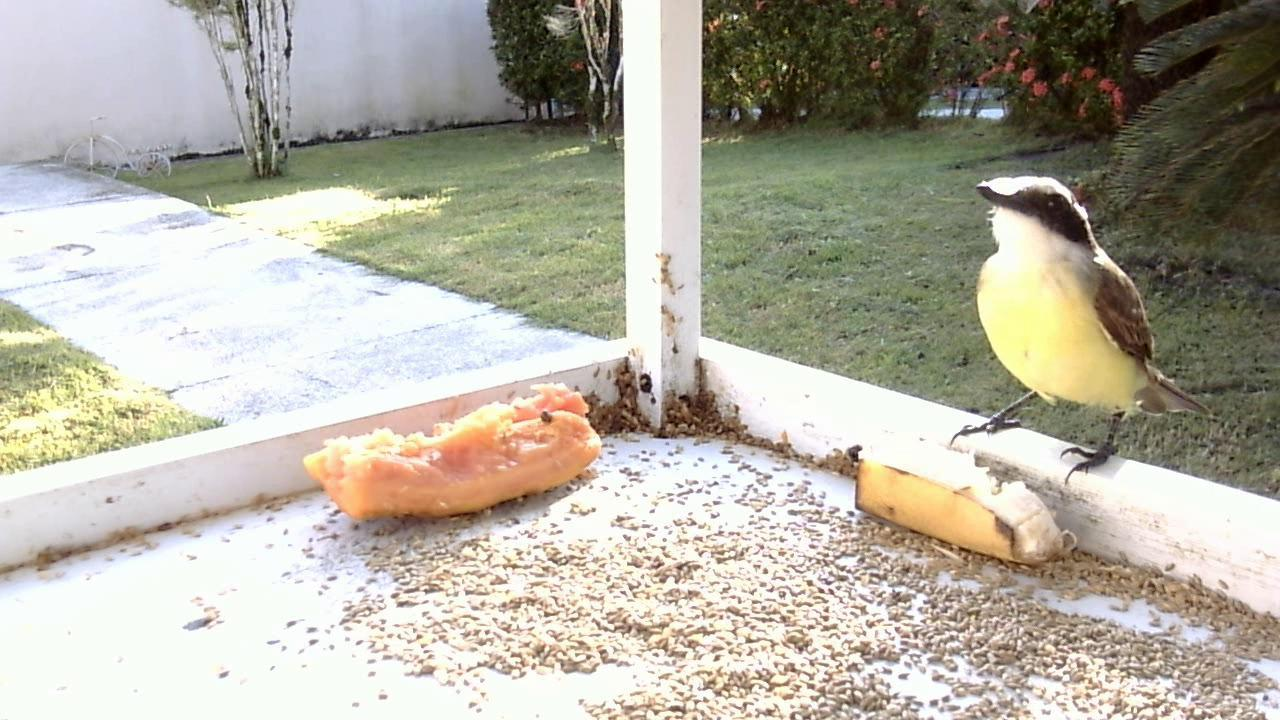bem_te_vi: (942, 167, 1218, 496)
